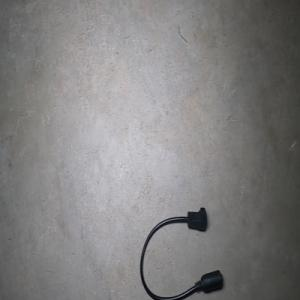Wire: (140, 207, 223, 300)
